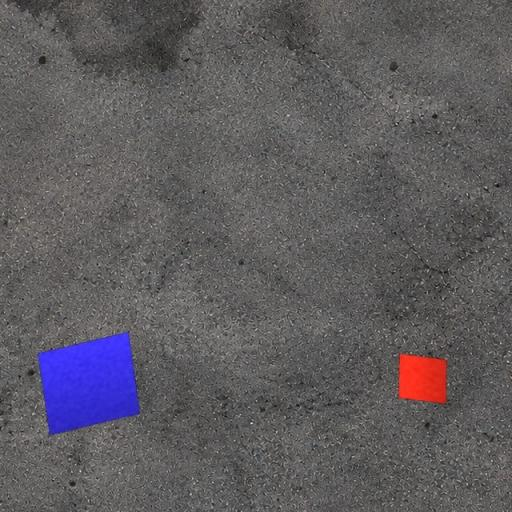BLUE_SQUARE: (37, 331, 141, 436)
RED_SQUARE: (398, 353, 448, 404)
